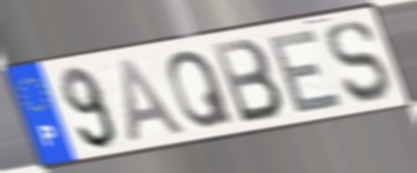9: (60, 63, 122, 152)
A: (115, 56, 192, 145)
B: (208, 35, 287, 127)
E: (265, 25, 348, 117)
Q: (165, 48, 238, 132)
S: (324, 18, 394, 107)
